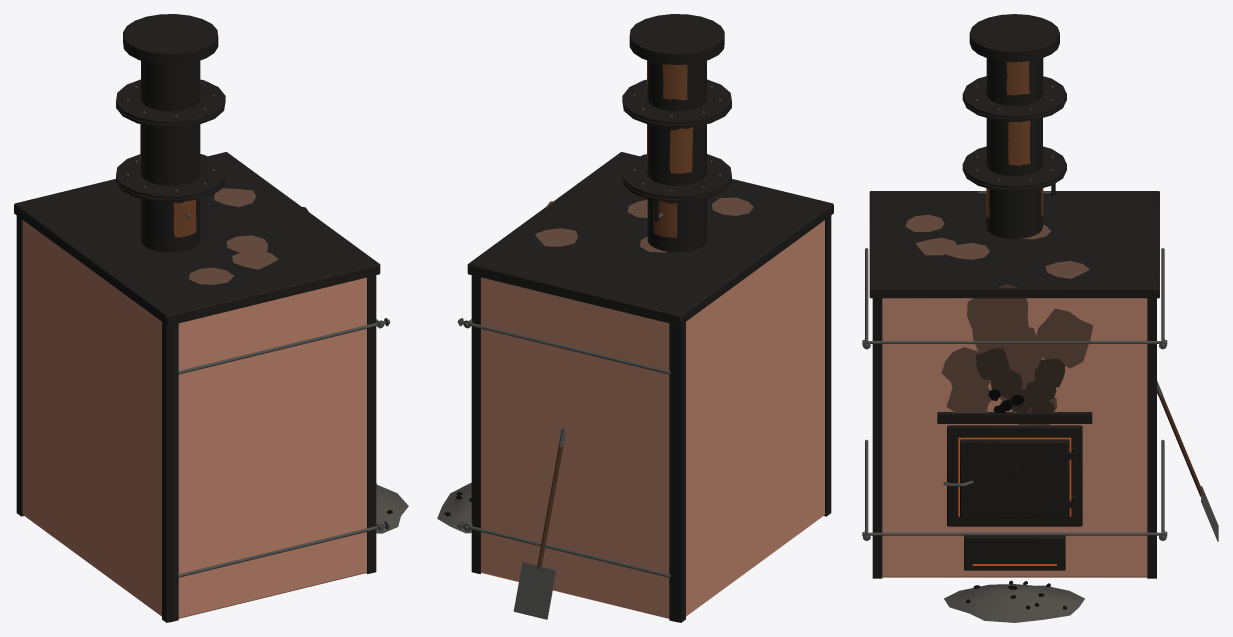
Rendered from furnace.glb.
3 renders of one model, left to right at view 1: azimuth 30°, elevation 25°; view 2: azimuth 150°, elevation 25°; view 3: azimuth 270°, elevation 25°, orthographic. The views are drawn at different scales.
Parts seen in each view (by area): view 1: brick, iron, soot_l, steel, ash, rust; view 2: brick, iron, steel, rust, soot_l, ash, walnut_d; view 3: iron, brick, soot_l, steel, ash, soot_m, rust, glow, walnut_d.
Boxes of the visible parts, left/top/right/bottom form: brick: left=22, top=220, right=366, bottom=618; iron: left=14, top=14, right=380, bottom=622; soot_l: left=189, top=188, right=310, bottom=284; steel: left=126, top=86, right=389, bottom=577; ash: left=376, top=484, right=408, bottom=533; rust: left=140, top=124, right=196, bottom=237; brick: left=481, top=220, right=824, bottom=618; iron: left=467, top=14, right=833, bottom=622; steel: left=457, top=86, right=721, bottom=619; rust: left=647, top=60, right=692, bottom=237; soot_l: left=535, top=197, right=753, bottom=252; ash: left=437, top=482, right=471, bottom=533; walnut_d: left=537, top=446, right=563, bottom=569; iron: left=869, top=14, right=1159, bottom=578; brick: left=882, top=298, right=1147, bottom=577; soot_l: left=905, top=214, right=1092, bottom=425; steel: left=862, top=85, right=1218, bottom=541; ash: left=944, top=584, right=1084, bottom=622; soot_m: left=976, top=348, right=1064, bottom=412; rust: left=986, top=58, right=1043, bottom=218; glow: left=958, top=437, right=1071, bottom=565; walnut_d: left=1159, top=395, right=1204, bottom=496.
Size of the model in its own units: 2.37 by 3.8 by 2.53.
